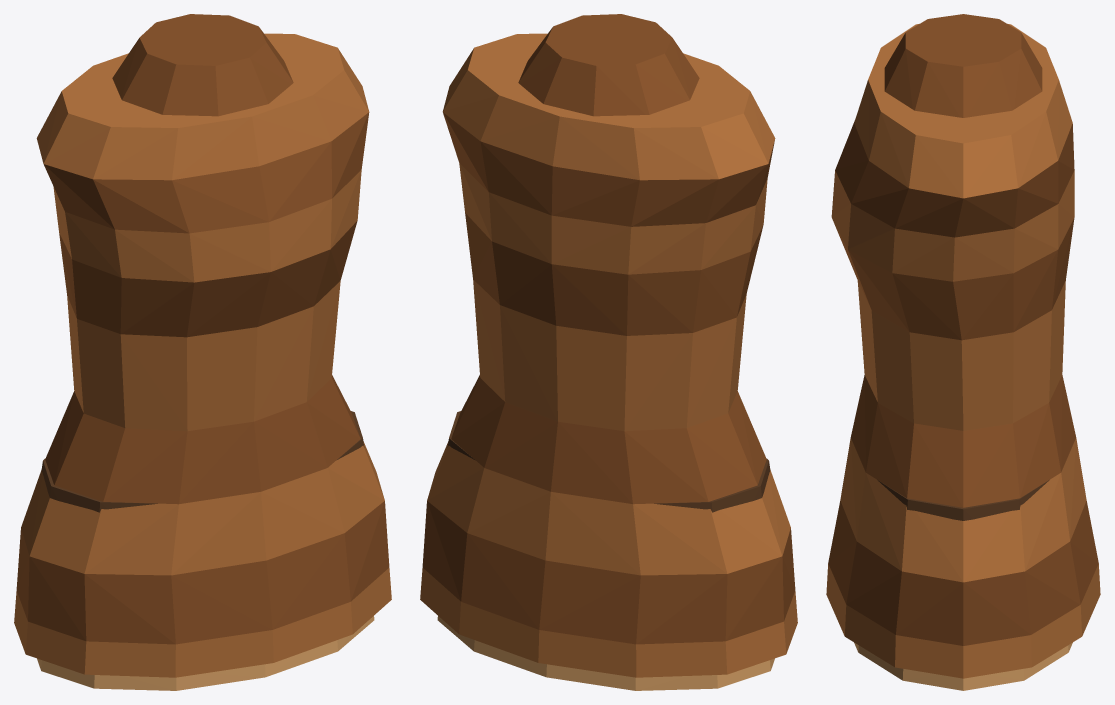
Rendered from gear_bronze_chainbody_torso_f.glb.
3 renders of one model, left to right at view 1: azimuth 30°, elevation 25°; view 2: azimuth 150°, elevation 25°; view 3: azimuth 270°, elevation 25°, orthographic. The views are drawn at different scales.
Visible parts, largest first — view 1: gear_bronze_chainbody_torso_f; view 2: gear_bronze_chainbody_torso_f; view 3: gear_bronze_chainbody_torso_f.
Boxes of the visible parts, x1,y1,x2,y2 form: gear_bronze_chainbody_torso_f: [14, 14, 391, 690]; gear_bronze_chainbody_torso_f: [420, 14, 797, 690]; gear_bronze_chainbody_torso_f: [826, 14, 1100, 690].
Size of the model in its own units: 0.458 by 0.73 by 0.316.
